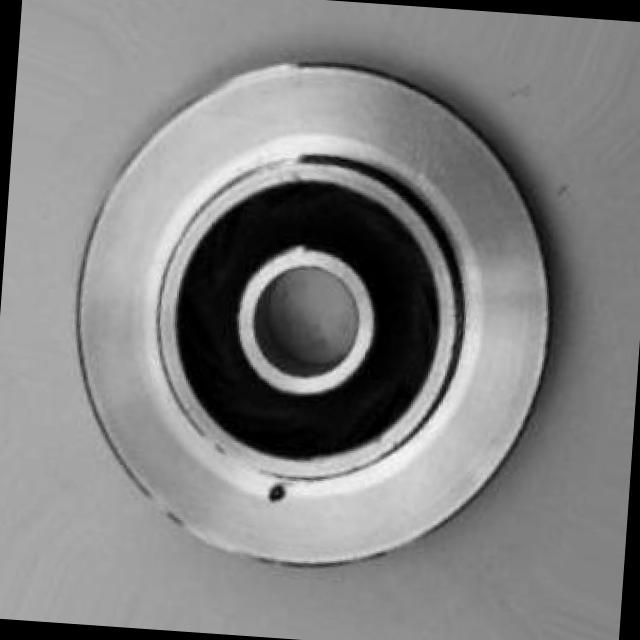Defect: (264, 480, 292, 507)
